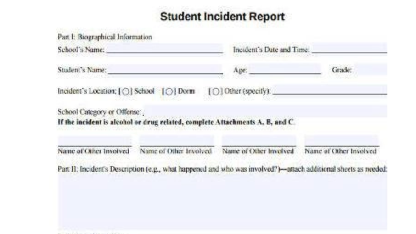textline: (271, 83, 388, 98), (104, 42, 225, 56), (107, 62, 226, 76), (220, 132, 299, 149), (139, 132, 216, 149), (310, 41, 390, 57), (55, 132, 135, 148), (304, 132, 382, 148), (247, 62, 323, 76)
